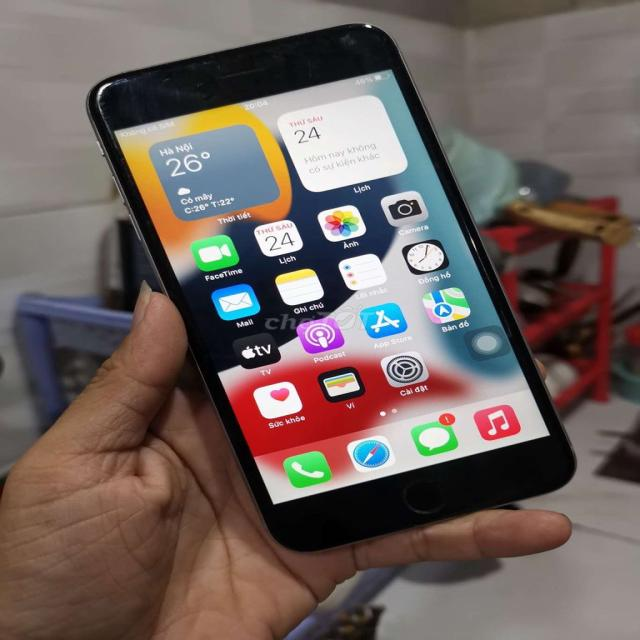gen_6: (88, 24, 574, 550)
